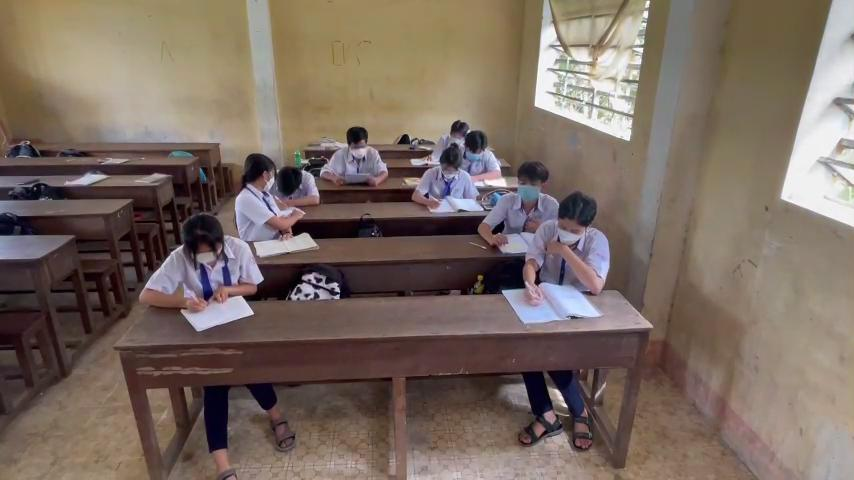Bend Over The Desk: (274, 158, 304, 200)
Hand Under Table: (456, 171, 482, 207)
Look Around: (233, 151, 276, 196)
Wave: (538, 235, 615, 294), (235, 189, 305, 234)
